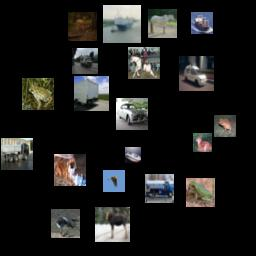automobile: (179, 56, 214, 91), (116, 98, 148, 130)
bird: (51, 209, 80, 238), (103, 170, 125, 192)
deer: (95, 207, 130, 242), (68, 12, 97, 41), (193, 133, 212, 152)
dog: (54, 154, 86, 186)
frog: (22, 78, 54, 110), (186, 178, 215, 207), (214, 115, 236, 137)
ship: (103, 5, 141, 43), (191, 12, 213, 34), (125, 147, 141, 163)
truck: (74, 76, 109, 111), (1, 138, 33, 170), (145, 174, 174, 203), (72, 48, 98, 74)
